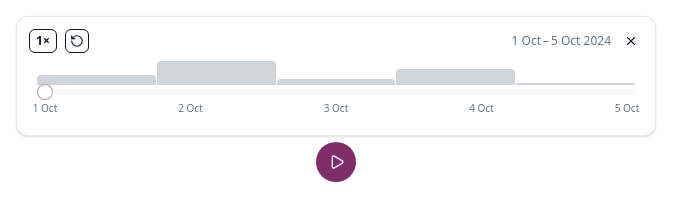
it: TimelineScrubber › loop button toggles loop mode
Step 1. Click the button named "Loop off" → (77, 41), box [65,29,89,53]
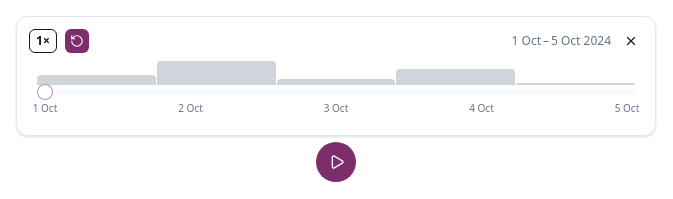
Result: the button named "Loop on" is shown at [65,29,89,53]
